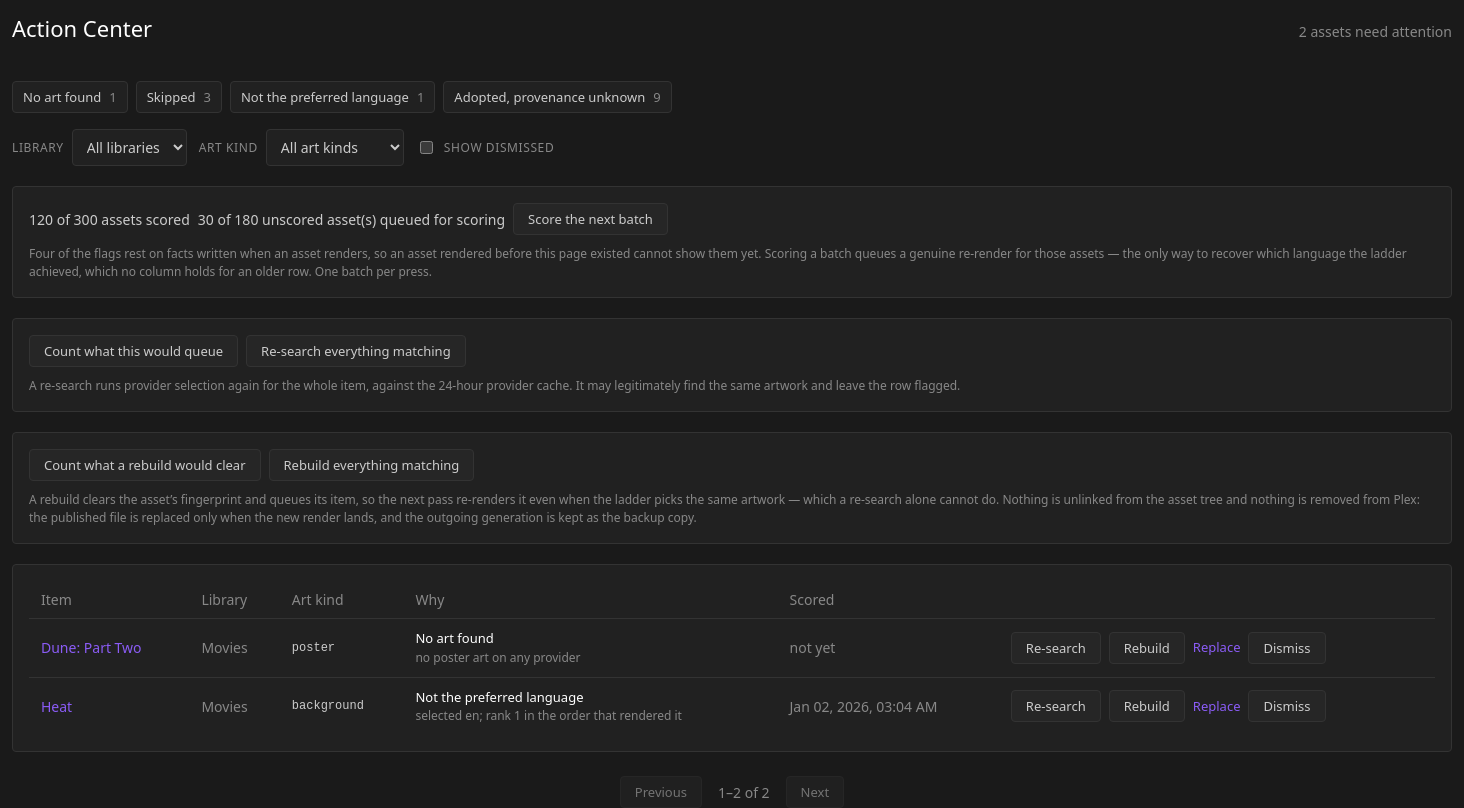
ActionCenter › reports a de-duplicated re-search without pretending it queued
Expected: the link "Dune: Part Two" is shown, [41,638,142,657]
Click the button "Re-search" in the row of "Dune: Part Two".
click(1056, 648)  # box [1011,632,1101,664]
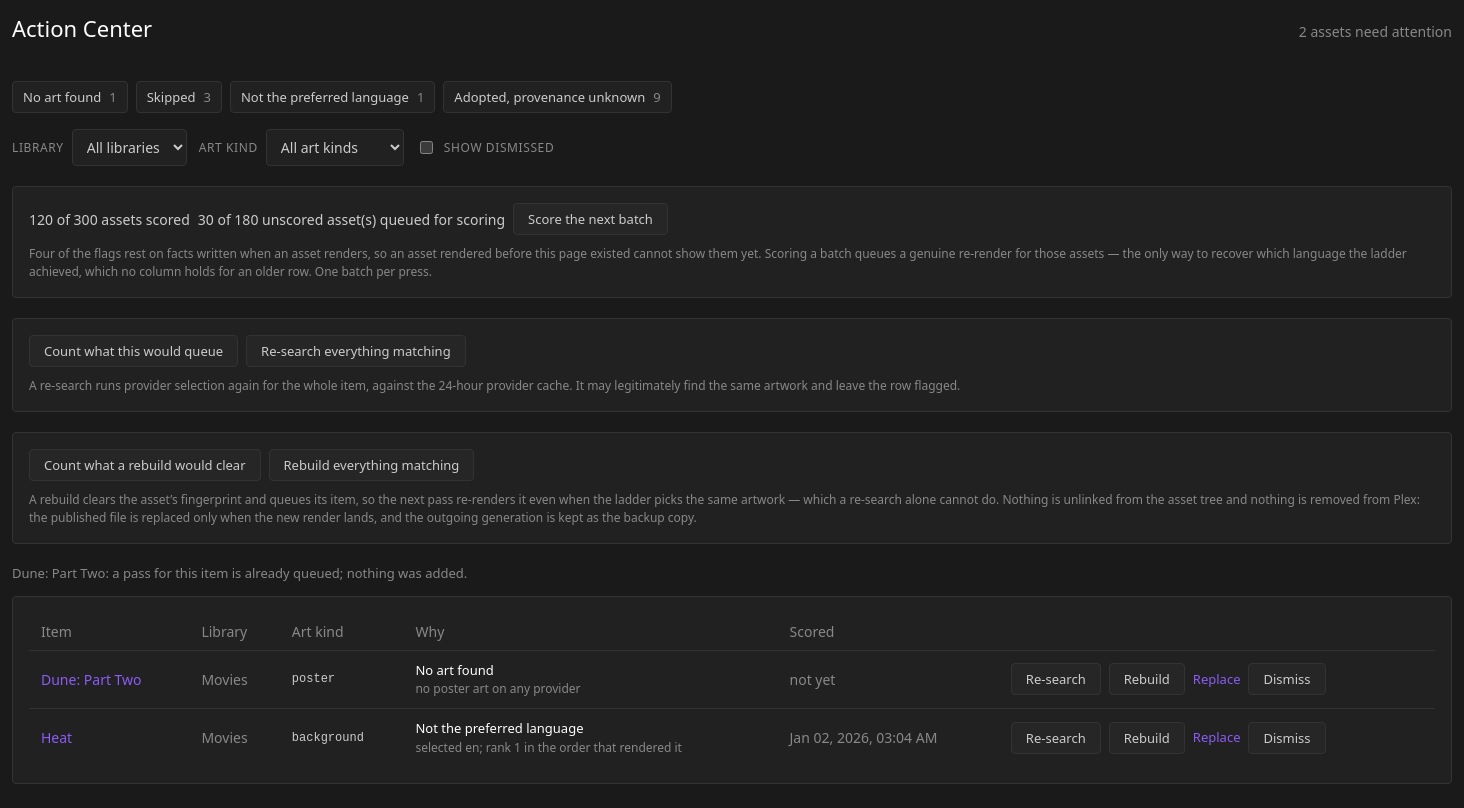
Expected: the text "already queued" is shown, [12,564,467,582]
